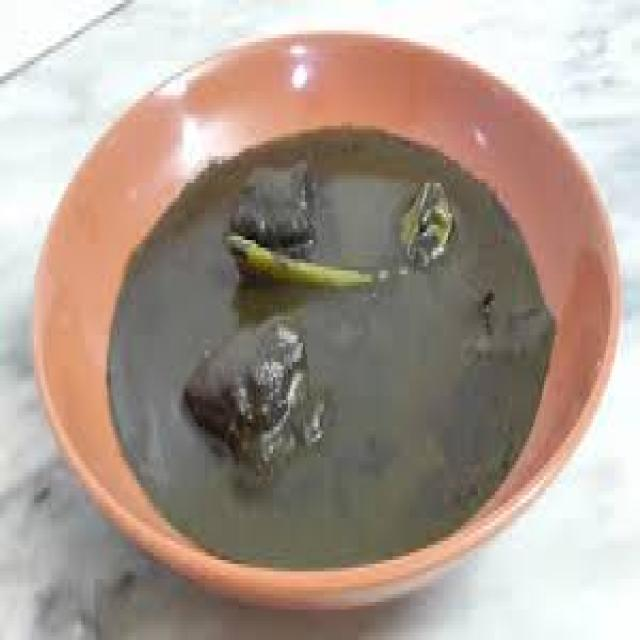Melloukhia: (61, 44, 593, 558)
